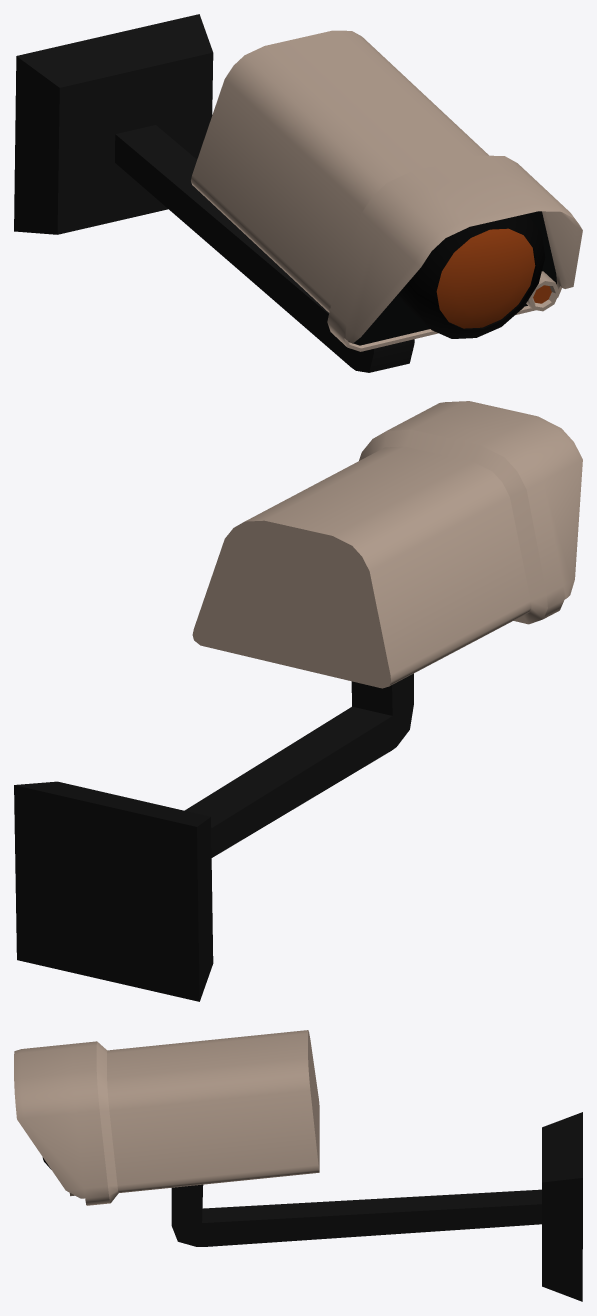
Rendered from KF_Kalonji_SM_Rooftop_SecurityCamera_02.fbx.
3 renders of one model, top to bottom at view 1: azimuth 30°, elevation 25°; view 2: azimuth 150°, elevation 25°; view 3: azimuth 270°, elevation 25°, orthographic. The views are drawn at different scales.
Parts seen in each view (by area): view 1: Outside, Stand, Glass, Cylinder, mini; view 2: Outside, Stand; view 3: Outside, Stand.
Part boxes in pixels (x1,y1,x2,y2): Outside: [191, 30, 582, 351]; Stand: [14, 14, 414, 372]; Glass: [436, 228, 535, 328]; Cylinder: [398, 214, 545, 338]; mini: [526, 271, 559, 311]; Outside: [192, 401, 582, 688]; Stand: [14, 673, 413, 1001]; Outside: [14, 1030, 319, 1205]; Stand: [171, 1112, 582, 1301].
Size of the model in its own units: 24.49 by 33.56 by 76.9.
